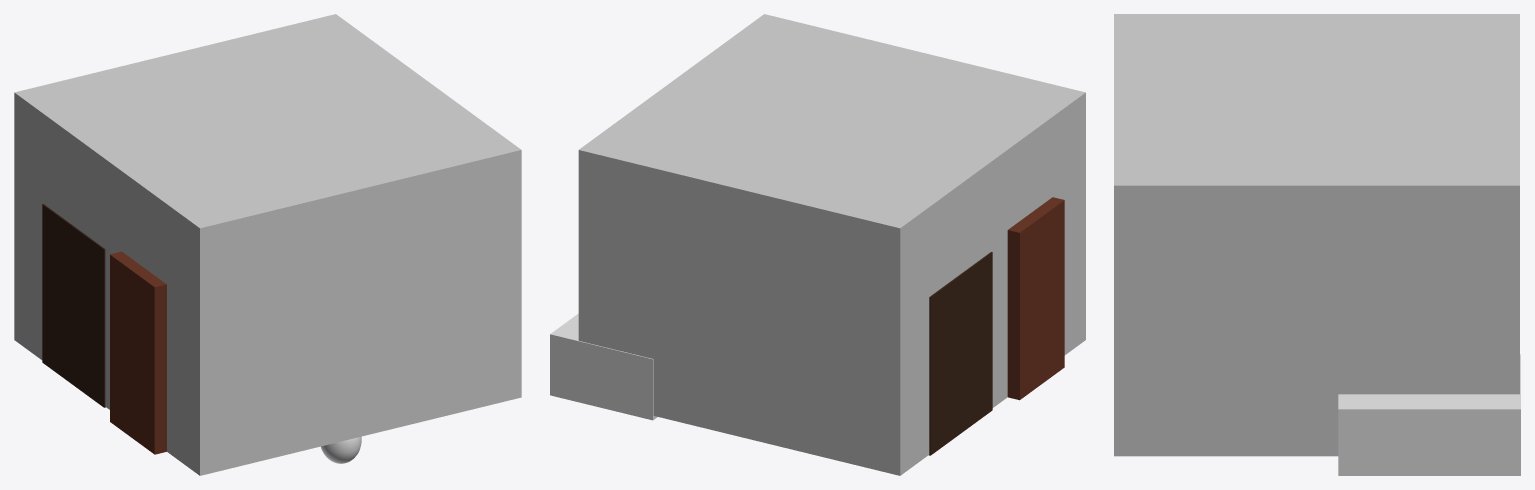
The model's file is bedroom.fbx.
3 views of the same model, side by side, from view 1: azimuth 30°, elevation 25°; view 2: azimuth 150°, elevation 25°; view 3: azimuth 270°, elevation 25° (orthographic). The views are drawn at different scales.
Parts seen in each view (by area): view 1: Cube, Cube.001, Cube.002, Cylinder; view 2: Cube, Cube.002, Cube.001, Cube.003; view 3: Cube, Cube.003.
Part boxes in pixels (bbox=[...]): Cube: bbox=[14, 14, 521, 475]; Cube.001: bbox=[42, 204, 105, 407]; Cube.002: bbox=[110, 251, 166, 454]; Cylinder: bbox=[321, 437, 361, 463]; Cube: bbox=[578, 14, 1085, 475]; Cube.002: bbox=[1007, 197, 1064, 400]; Cube.001: bbox=[929, 252, 992, 455]; Cube.003: bbox=[550, 313, 657, 420]; Cube: bbox=[1114, 14, 1519, 456]; Cube.003: bbox=[1338, 354, 1520, 475].
Size of the model in its own units: 1664 by 1263 by 1483.
